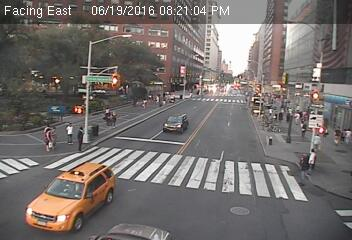neg: (235, 148, 253, 172), (163, 113, 179, 134), (225, 98, 235, 112)
pos: (72, 125, 93, 152), (60, 122, 79, 147)
